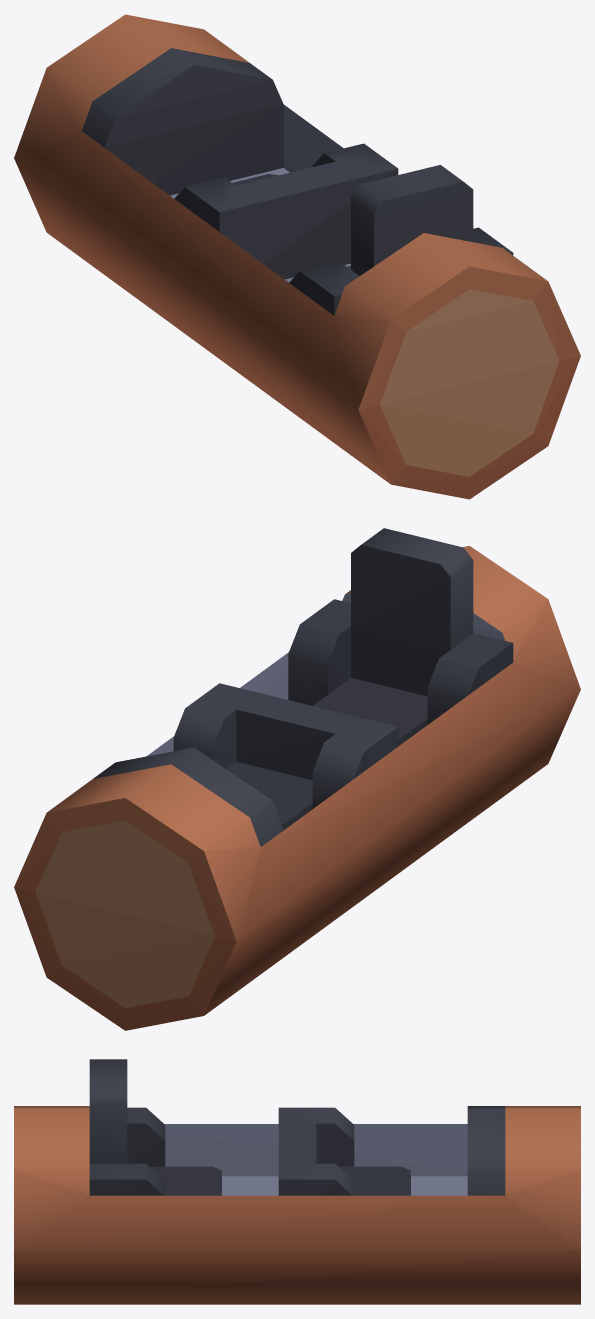
File: coaster_train_log_flume.glb
3 views of the same model, one above another, from view 1: azimuth 30°, elevation 25°; view 2: azimuth 150°, elevation 25°; view 3: azimuth 270°, elevation 25° (orthographic). The views are drawn at different scales.
Parts seen in each view (by area): view 1: coaster_train_log_flume; view 2: coaster_train_log_flume; view 3: coaster_train_log_flume.
Boxes of the visible parts, box(x1,y1,x2,y2) form: coaster_train_log_flume: box(14, 14, 580, 499); coaster_train_log_flume: box(14, 528, 580, 1030); coaster_train_log_flume: box(14, 1059, 580, 1304).
Bounding box in the file's own units: 0.56 × 0.66 × 1.5.
